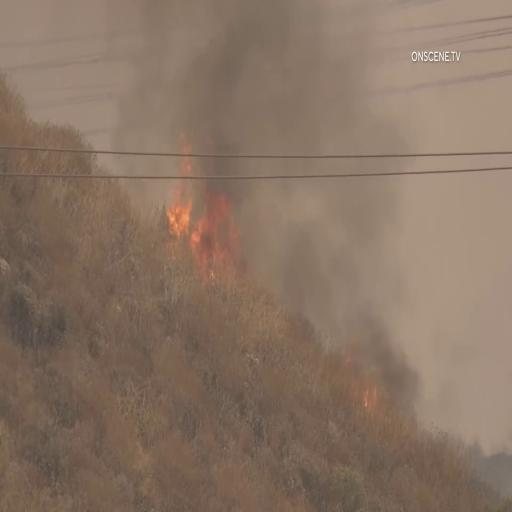fire: (172, 172, 227, 271)
smoke: (144, 26, 308, 138)
